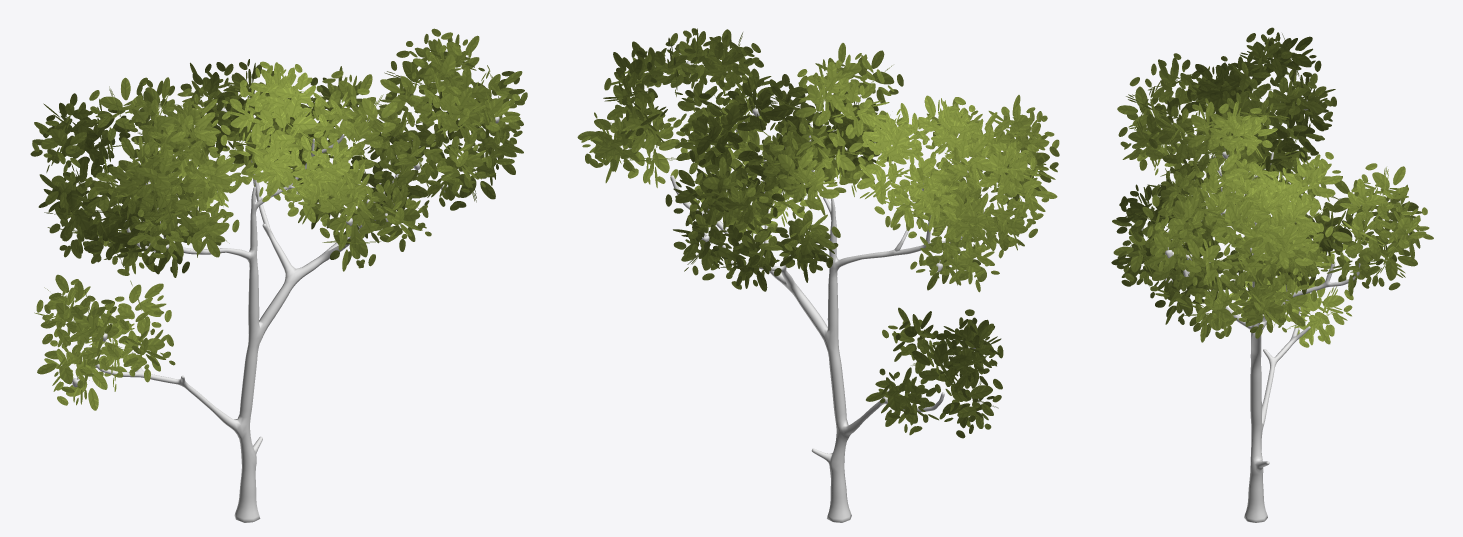
Rendered from arvore_8.fbx.
3 renders of one model, left to right at view 1: azimuth 30°, elevation 25°; view 2: azimuth 150°, elevation 25°; view 3: azimuth 270°, elevation 25°, orthographic. The views are drawn at different scales.
Parts seen in each view (by area): view 1: copa_8, tronco_8; view 2: copa_8, tronco_8; view 3: copa_8, tronco_8.
Part boxes in pixels (x1,y1,x2,y2): copa_8: (30, 28, 527, 410); tronco_8: (93, 134, 400, 522); copa_8: (577, 28, 1059, 438); tronco_8: (670, 119, 985, 522); copa_8: (1111, 27, 1433, 347); tronco_8: (1183, 152, 1360, 522).
Bounding box in the file's own units: 6912 × 6281 × 4513.
